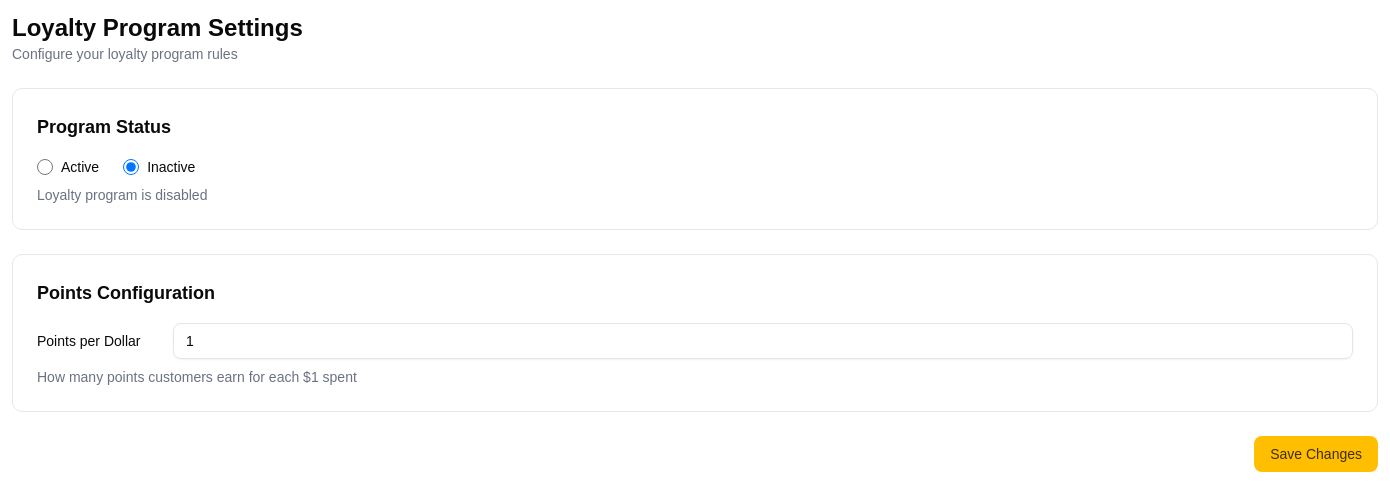
Scenario: LoyaltyRulesClient › Form Interactions › should toggle status between active and inactive
Expected: the radio button labelled "Inactive" is checked, x1=123 y1=159 x2=139 y2=175
Click the radio button labelled "Active" at (45, 167), box x1=37 y1=159 x2=53 y2=175
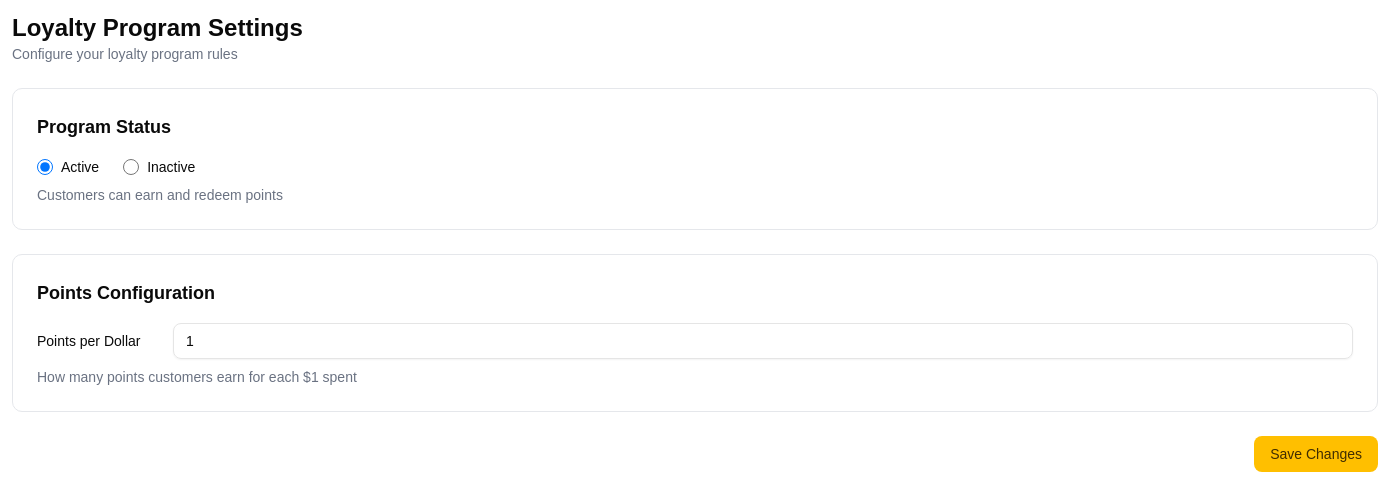
Expected: the radio button labelled "Active" is checked, x1=37 y1=159 x2=53 y2=175
Expected: the radio button labelled "Inactive" is not checked, x1=123 y1=159 x2=139 y2=175
